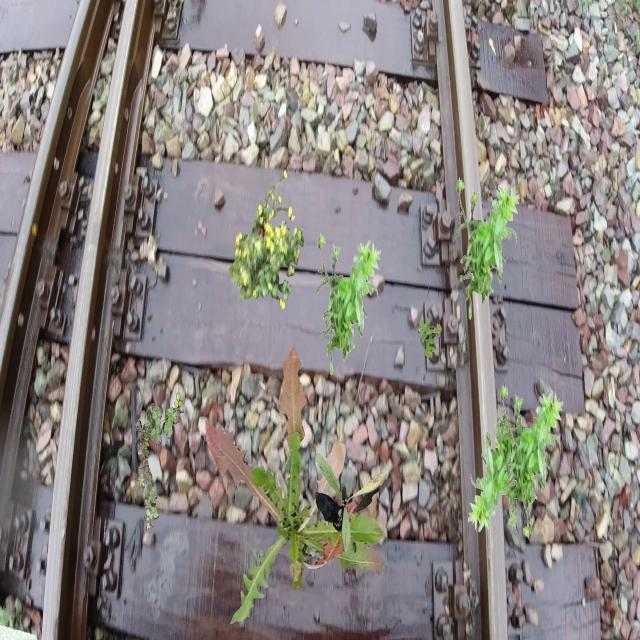Plant: (205, 346, 385, 624), (229, 170, 304, 310), (317, 232, 382, 376), (455, 177, 520, 320), (499, 383, 564, 526), (468, 396, 532, 540), (315, 453, 387, 552), (135, 393, 184, 531), (418, 317, 442, 358)
